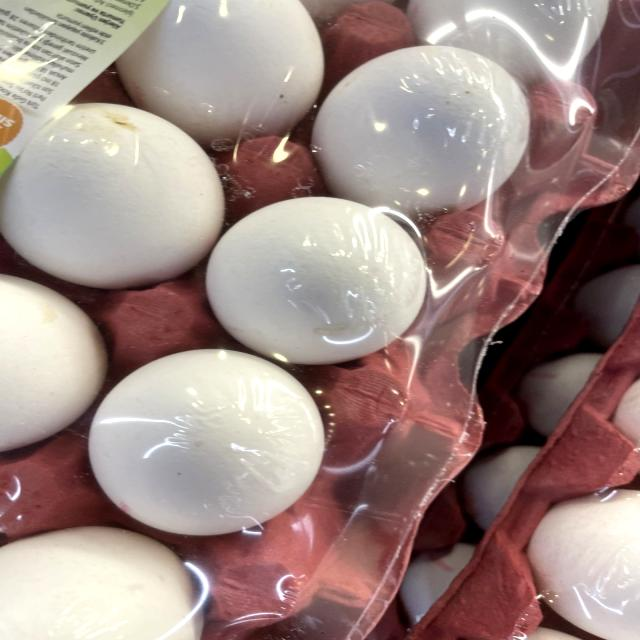egg: (80, 336, 335, 541), (2, 96, 234, 295), (196, 183, 433, 368), (313, 33, 540, 219)
